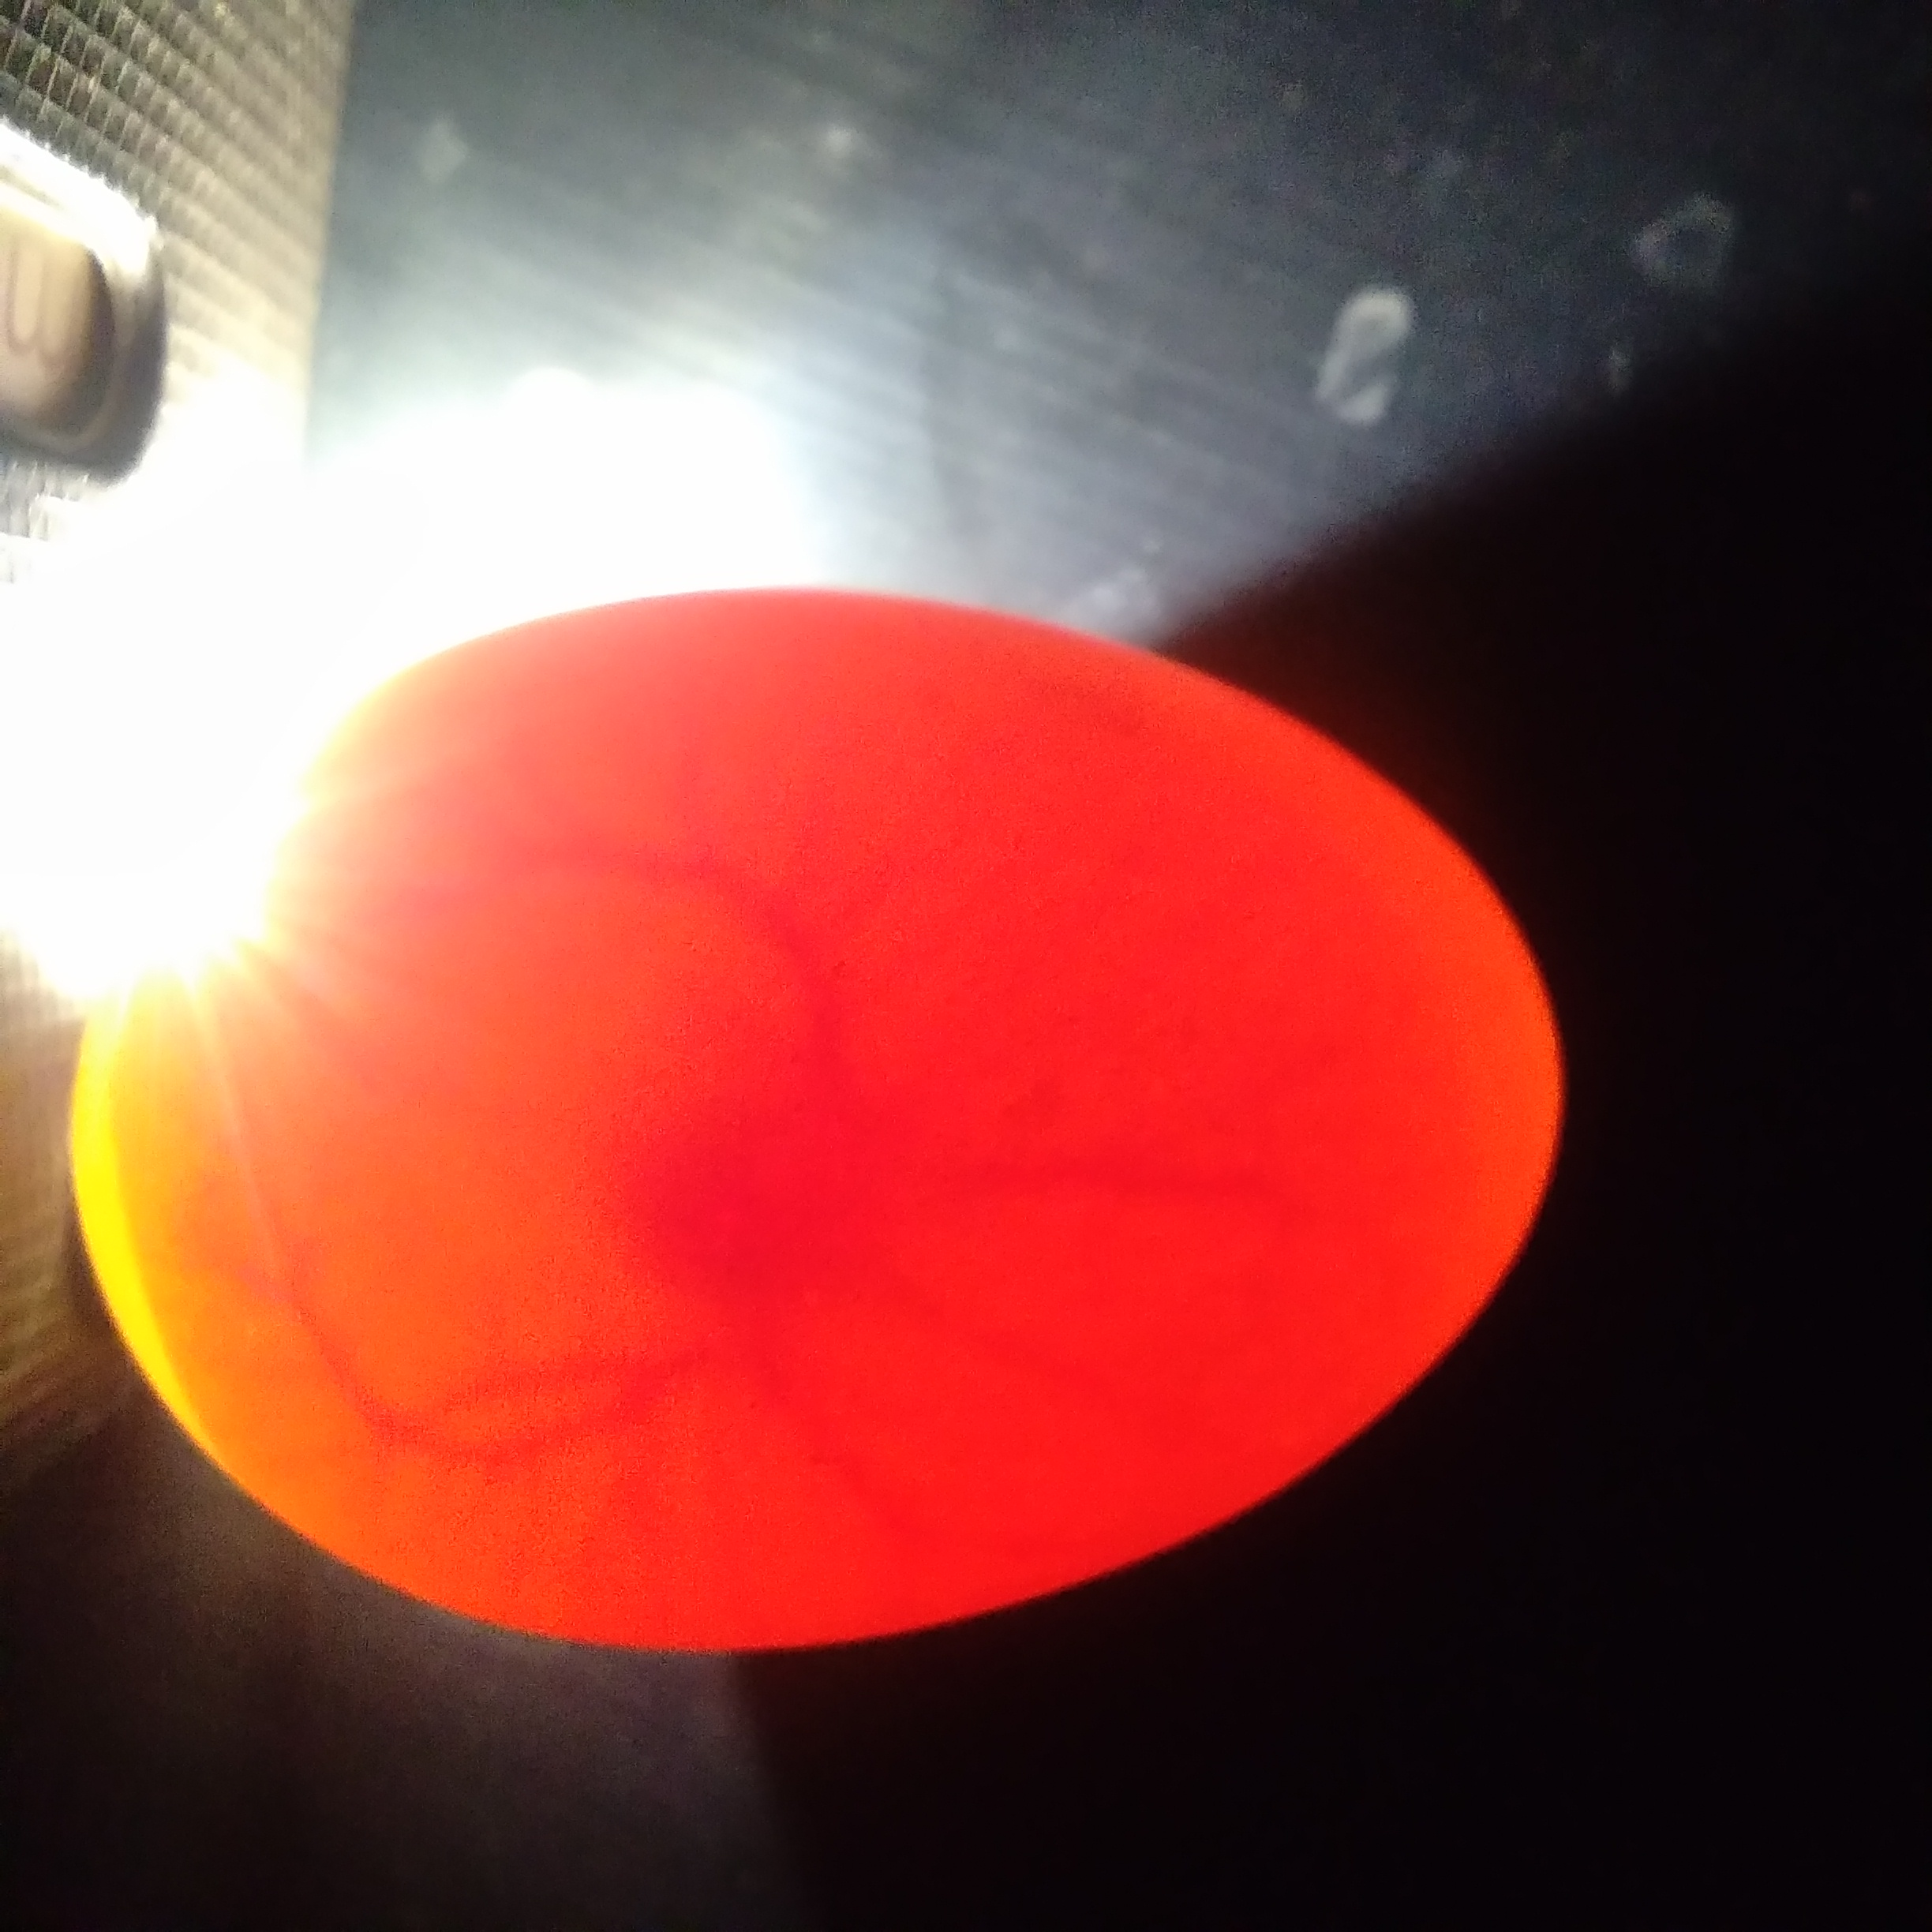bloodcell: (209, 1173, 609, 1545), (508, 752, 929, 996)
embryo: (644, 1072, 895, 1371)
